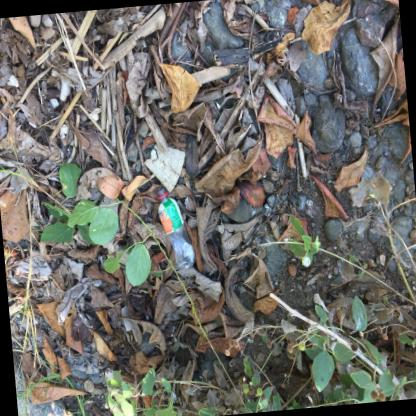Plastic: (156, 186, 194, 268)
Waste: (143, 143, 184, 192), (6, 74, 18, 87), (48, 98, 58, 108), (28, 121, 36, 127)
